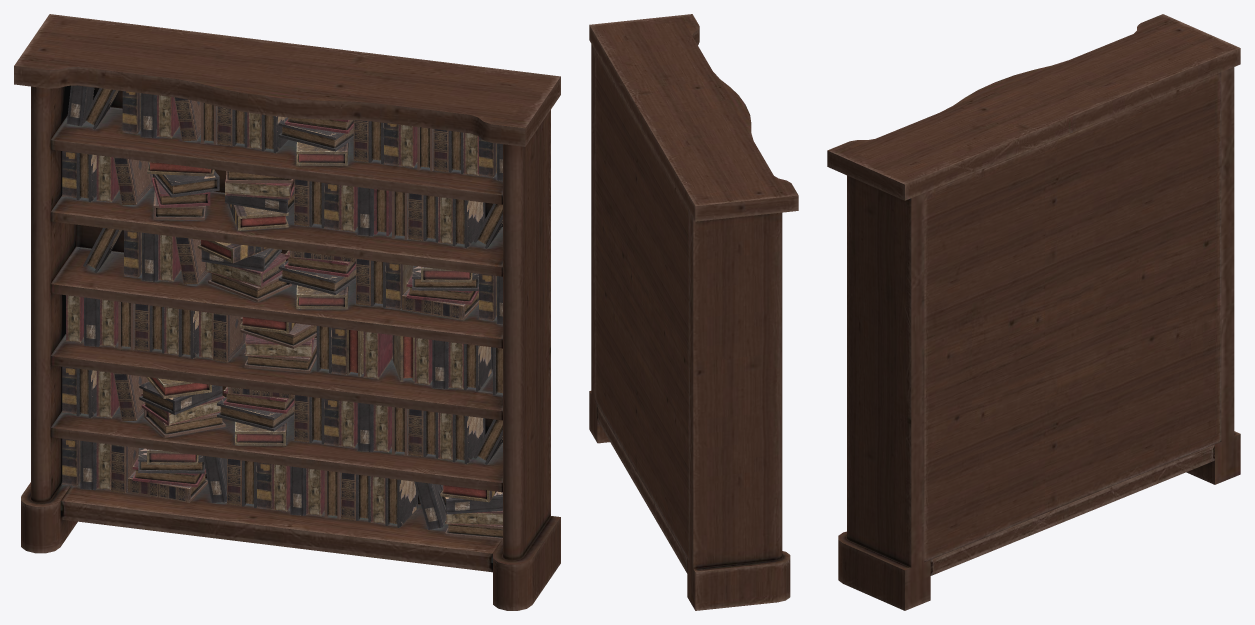
The picture shows the model from 3 angles, left to right: view 1: azimuth 30°, elevation 25°; view 2: azimuth 150°, elevation 25°; view 3: azimuth 270°, elevation 25°; orthographic projection. The views are drawn at different scales.
Parts seen in each view (by area): view 1: Cylinder005, Object001_books_0; view 2: Cylinder005; view 3: Cylinder005.
Part boxes in pixels (bbox=[...]): Cylinder005: bbox=[14, 14, 560, 610]; Object001_books_0: bbox=[62, 85, 502, 540]; Cylinder005: bbox=[589, 14, 798, 610]; Cylinder005: bbox=[827, 14, 1240, 610].
Bounding box in the file's own units: 2.17 × 2.53 × 2.22.
Materials: 2 (2 with a texture image).
